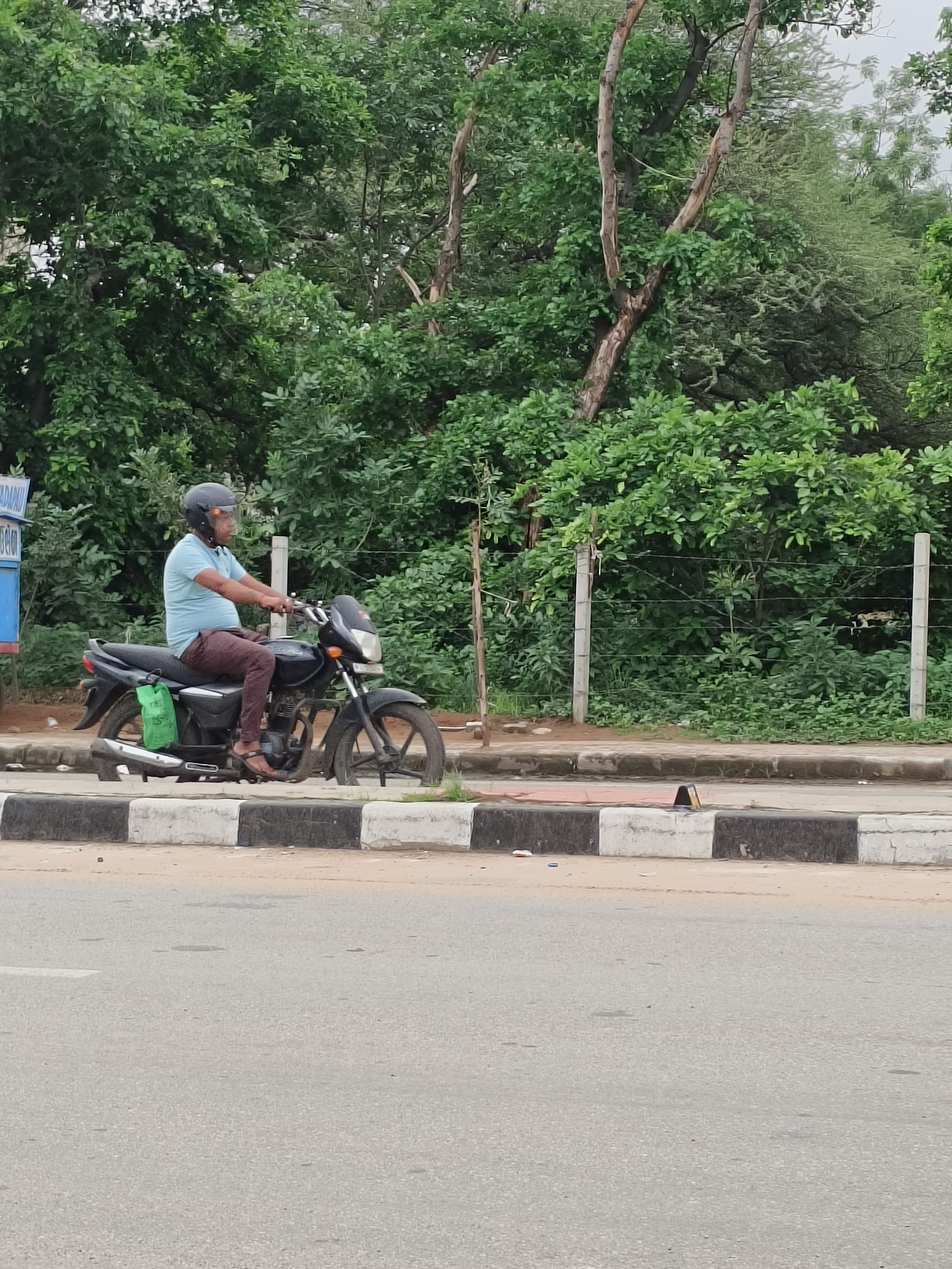BikeWithRider: (71, 475, 449, 788)
Helmet: (176, 477, 252, 553)
